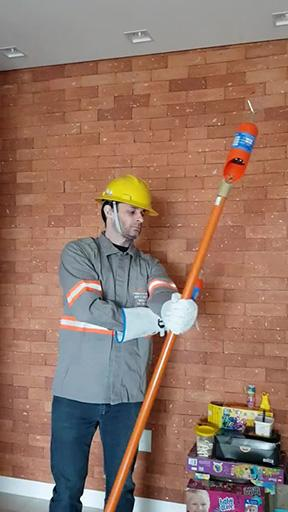Detector_Tensao_Contato: (221, 98, 264, 183)
Vara_Manobra: (105, 183, 229, 512)
